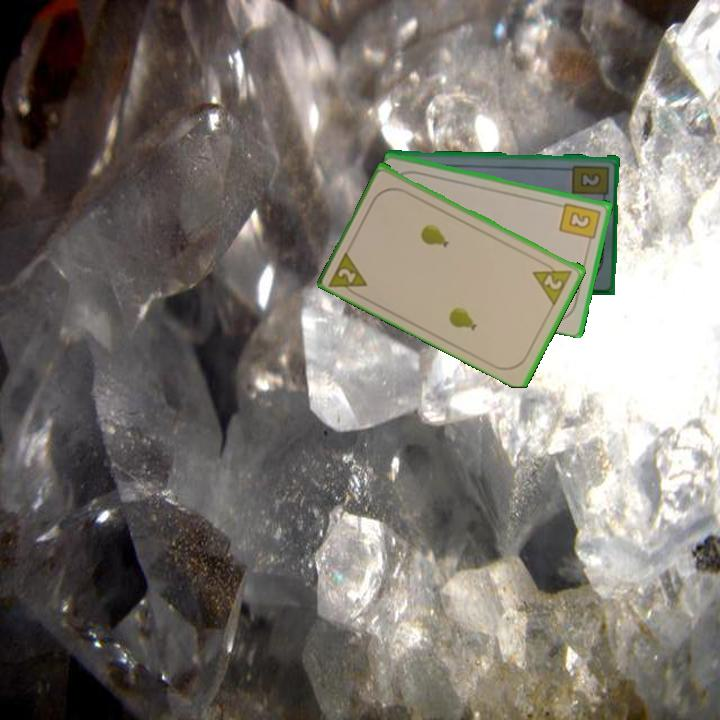2b: (556, 199, 604, 247), (569, 162, 612, 204)
2p: (326, 246, 371, 300), (529, 258, 576, 307)
